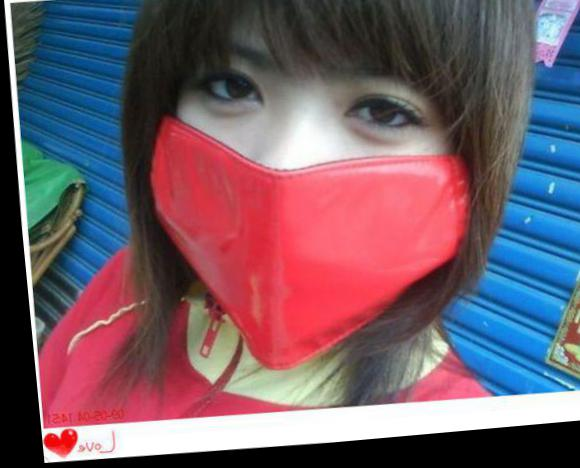WRONG: (140, 34, 460, 359)
